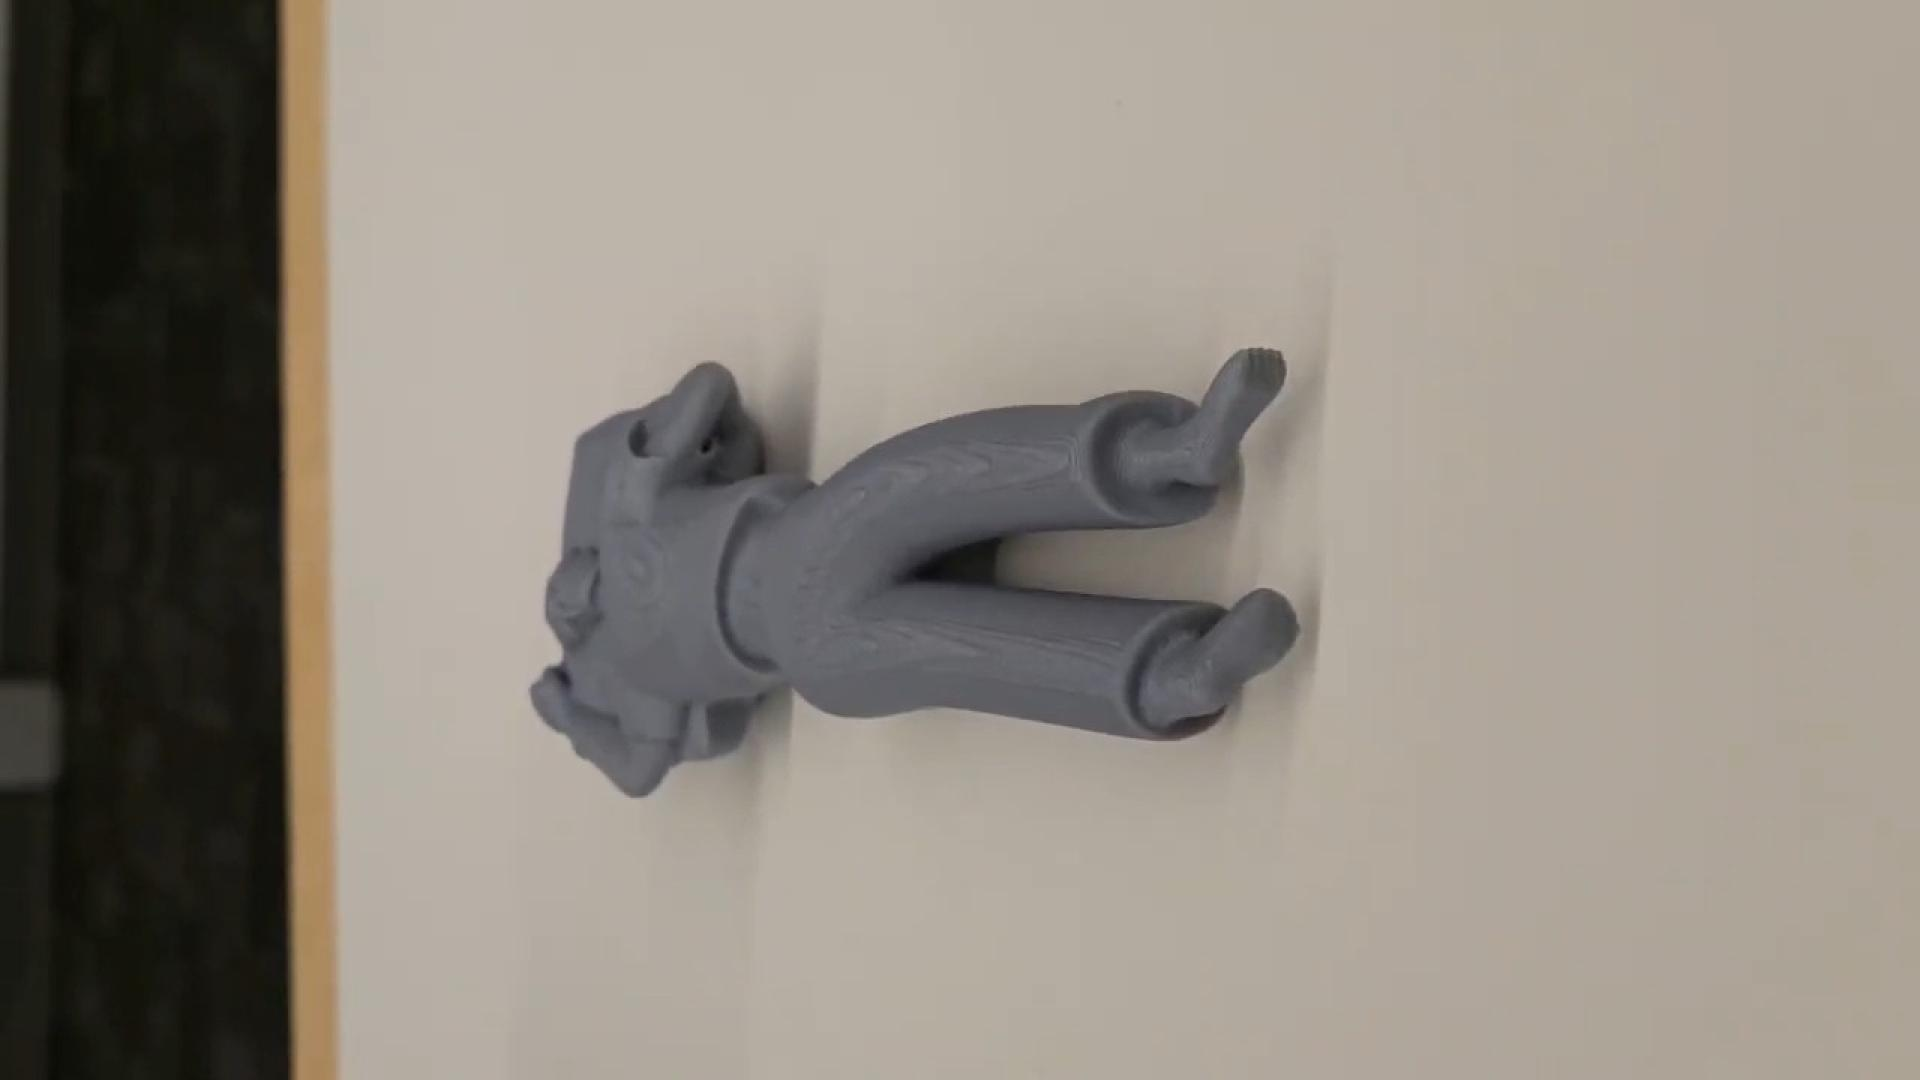Bad-style: (535, 339, 1308, 795)
